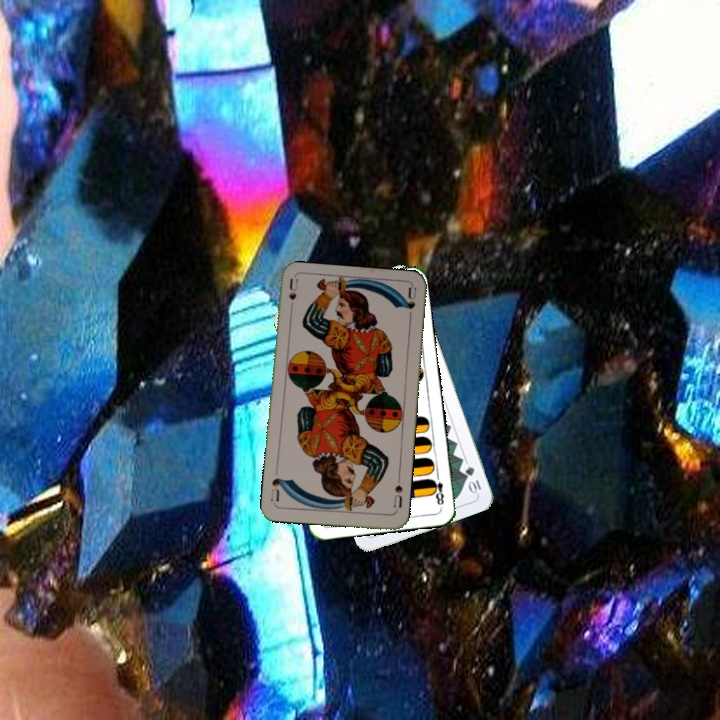E8: (428, 469, 447, 510)
G10: (461, 462, 484, 496)
SU: (285, 276, 301, 317), (390, 474, 405, 511)
